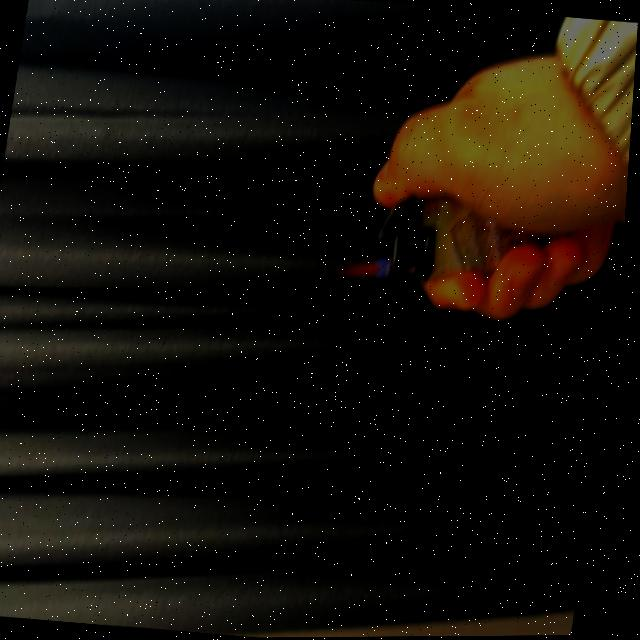Fire: (325, 253, 393, 286)
